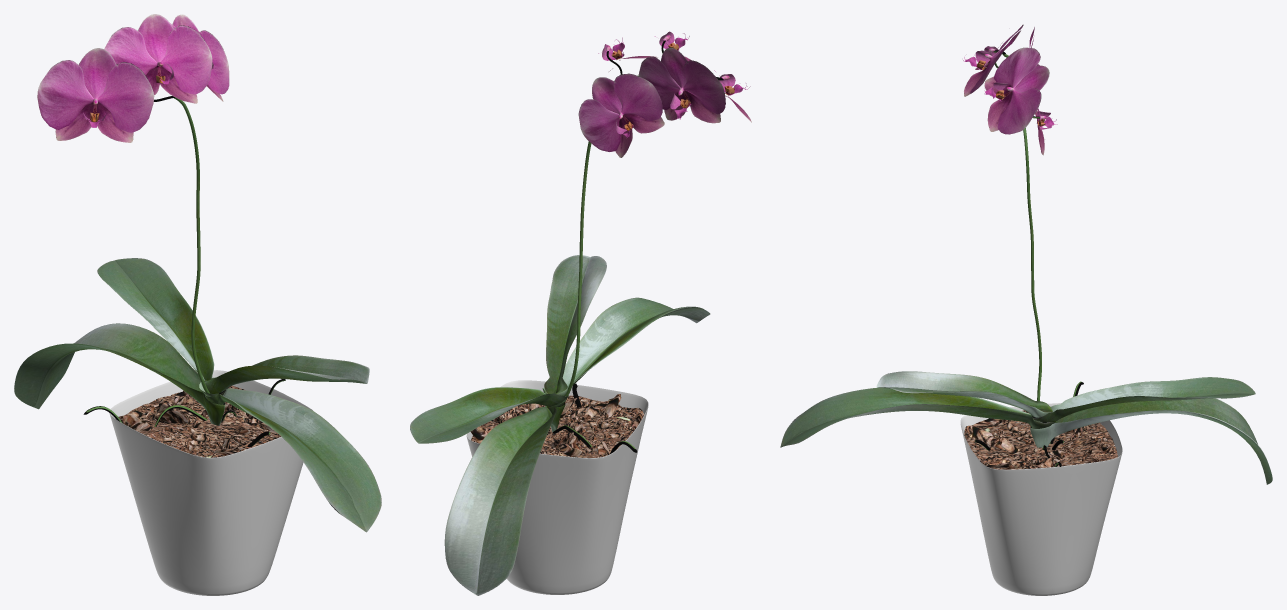
The model's file is orchidea2.glb.
3 views of the same model, side by side, from view 1: azimuth 30°, elevation 25°; view 2: azimuth 150°, elevation 25°; view 3: azimuth 270°, elevation 25° (orthographic). The views are drawn at different scales.
Parts seen in each view (by area): view 1: orchidea2; view 2: orchidea2; view 3: orchidea2.
Part boxes in pixels (<box>): orchidea2: <box>14,14,381,595</box>; orchidea2: <box>410,31,751,595</box>; orchidea2: <box>780,24,1272,595</box>.
Size of the model in its own units: 0.5904 by 1.22 by 1.06.
Materials: 5 (4 with a texture image).
